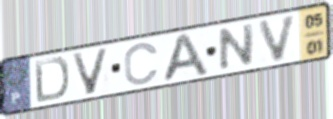A: (160, 31, 212, 85)
C: (123, 41, 161, 87)
D: (32, 55, 71, 105)
N: (217, 21, 257, 73)
V: (256, 12, 300, 64), (69, 46, 112, 97)
